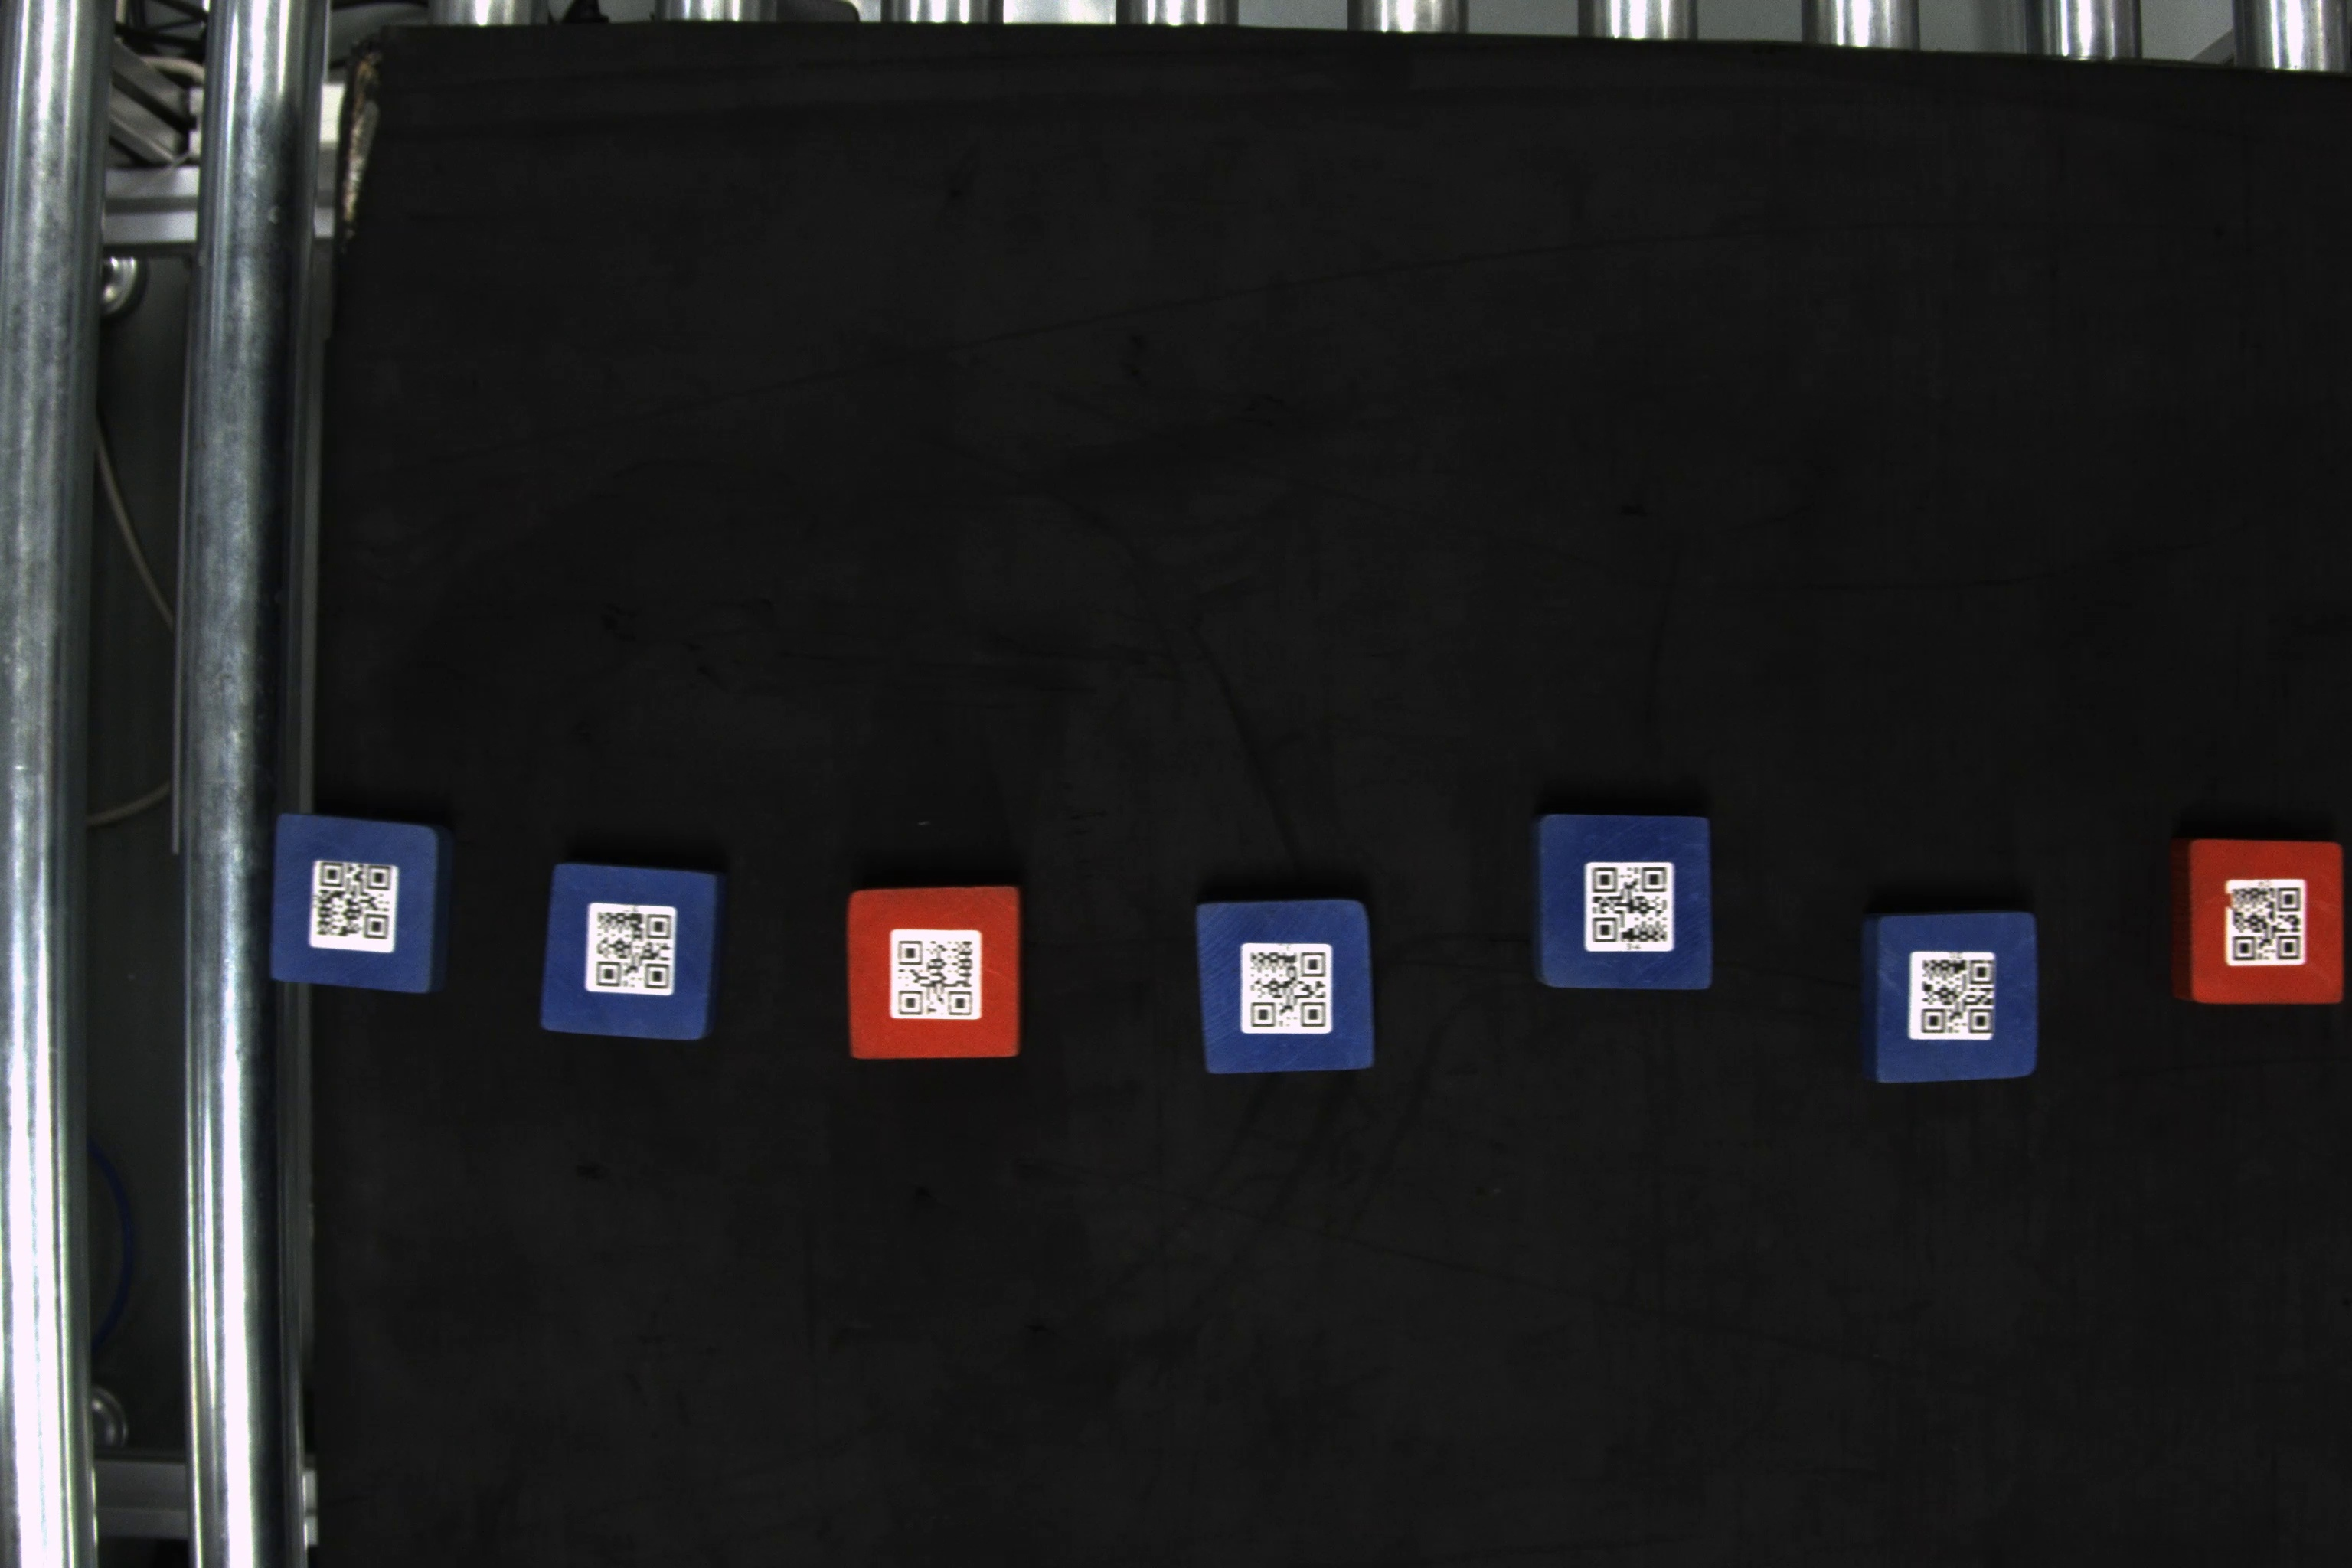wood: (266, 808, 460, 1001), (541, 856, 731, 1041), (1192, 894, 1379, 1078), (836, 880, 1027, 1060), (1529, 814, 1718, 994), (1853, 912, 2046, 1088), (2168, 835, 2347, 1008)
